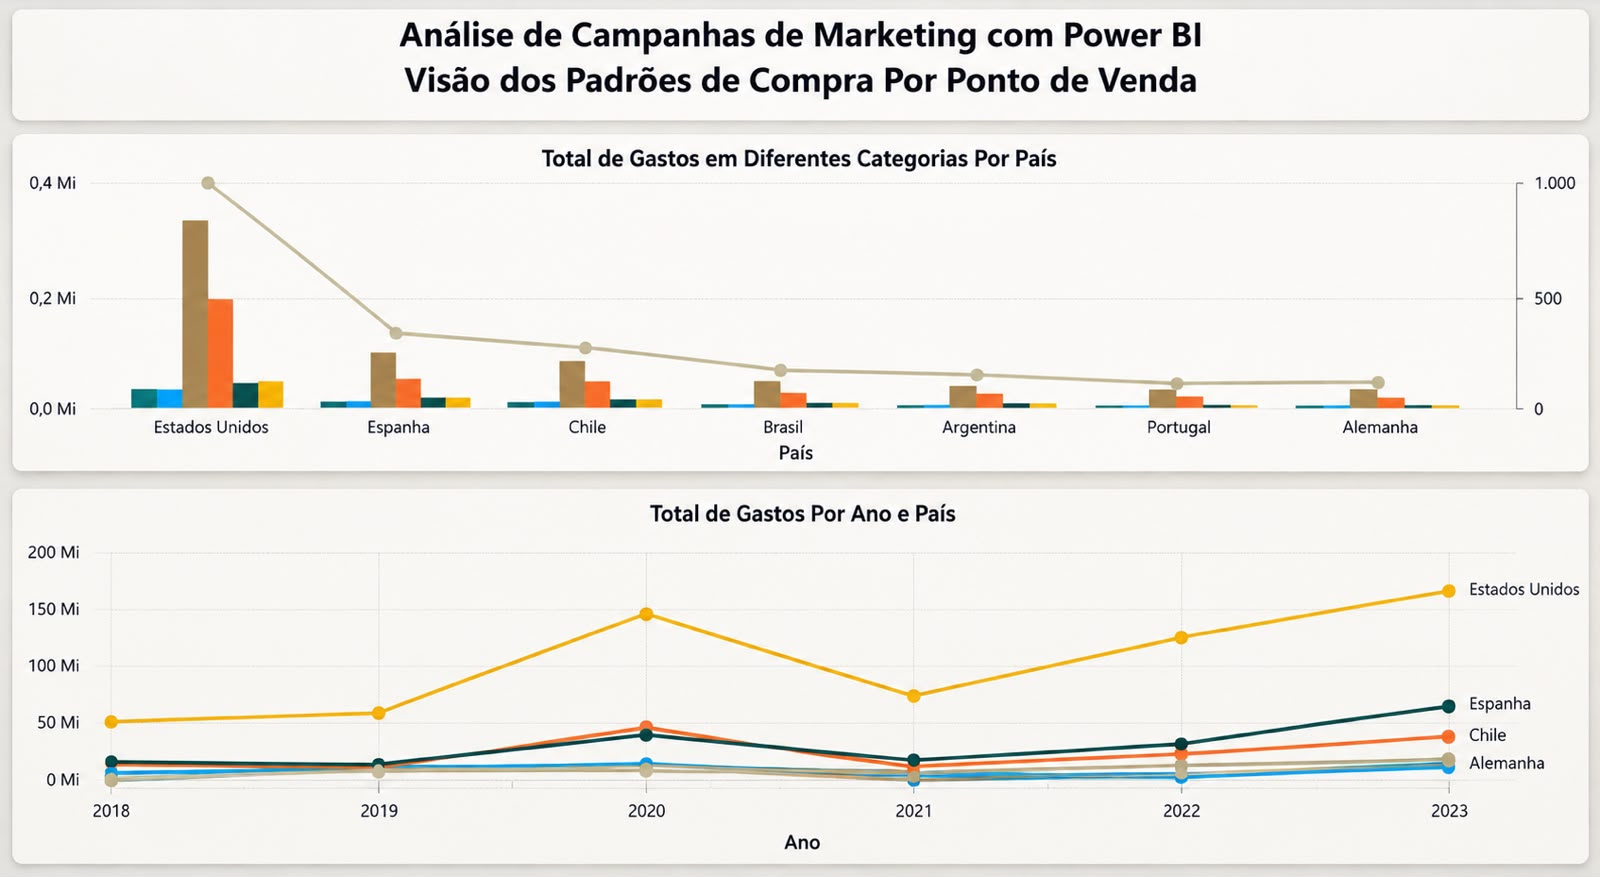

Layout of this report page (visuals, bound fields, positions):
{"tool":"powerbi","page":{"name":"Visão Pontos de Venda","canvas":[1280,720],"ordinal":3},"visuals":[{"type":"textbox","box":[0,0,1271.9,88.1],"z":0},{"type":"lineClusteredColumnComboChart","title":"Total de Gastos em Diferentes Categorias Por País","fields":{"Category":["DadosMarketing.Pais"],"Y":["Sum(DadosMarketing.Gasto com Alimentos)","Sum(DadosMarketing.Gasto com Brinquedos)","Sum(DadosMarketing.Gasto com Eletronicos)","Sum(DadosMarketing.Gasto com Moveis)","Sum(DadosMarketing.Gasto com Utilidades)","Sum(DadosMarketing.Gasto com Vestuario)"],"Y2":["CountNonNull(DadosMarketing.ID)"]},"box":[11,101.4,1261.6,283.6],"z":1000},{"type":"lineChart","title":"Total de Gastos Por Ano e País","fields":{"Category":["DadosMarketing.Data Cadastro.Variation.Hierarquia de datas.Ano"],"Series":["DadosMarketing.Pais"],"Y":["DadosMarketing.TotalGasto"]},"box":[11,402.7,1261.6,305.5],"z":2000}]}

Visuals, with their boxes in screenshot pixels (x1, y1, x2, y2), scaled from the page's 1280x720 canvas onto the 1600x877 screenshot:
textbox: rect(0, 0, 1590, 107)
"Total de Gastos em Diferentes Categorias Por País" lineClusteredColumnComboChart: rect(14, 124, 1591, 469)
"Total de Gastos Por Ano e País" lineChart: rect(14, 491, 1591, 863)
